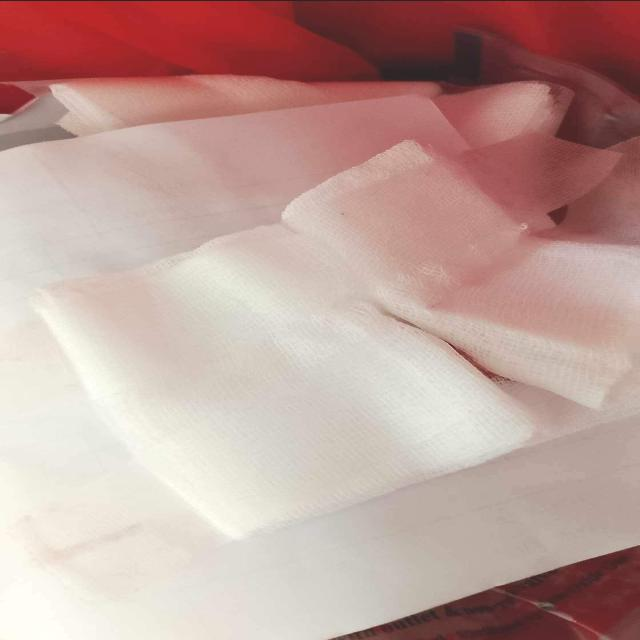General: (4, 28, 636, 634)
